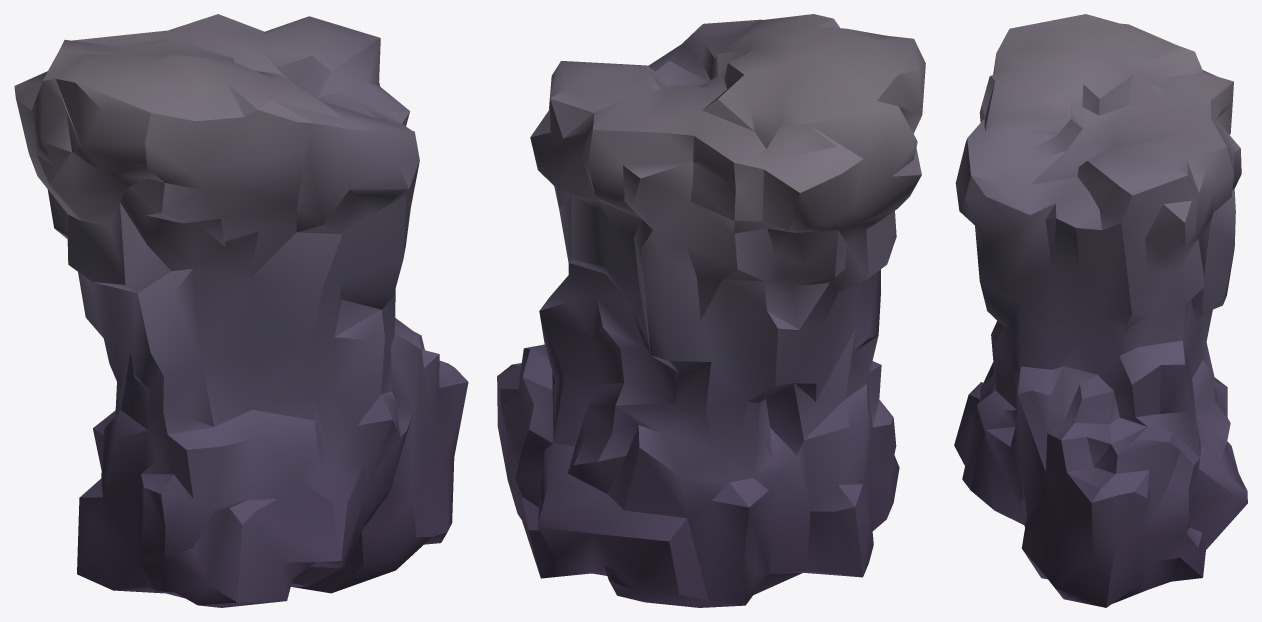
File: rock_norotate.001.fbx
3 views of the same model, side by side, from view 1: azimuth 30°, elevation 25°; view 2: azimuth 150°, elevation 25°; view 3: azimuth 270°, elevation 25° (orthographic). The views are drawn at different scales.
Visible parts, largest first — view 1: rock_norotate.001; view 2: rock_norotate.001; view 3: rock_norotate.001.
Boxes of the visible parts, x1,y1,x2,y2 form: rock_norotate.001: (14, 14, 468, 607); rock_norotate.001: (497, 14, 925, 607); rock_norotate.001: (954, 14, 1247, 607).
Bounding box in the file's own units: 1029 × 1300 × 749.
